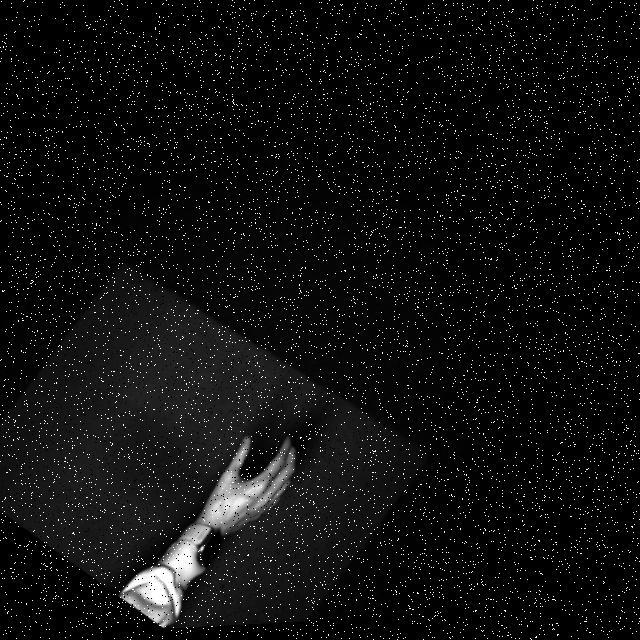no-gloves: (188, 412, 330, 556)
